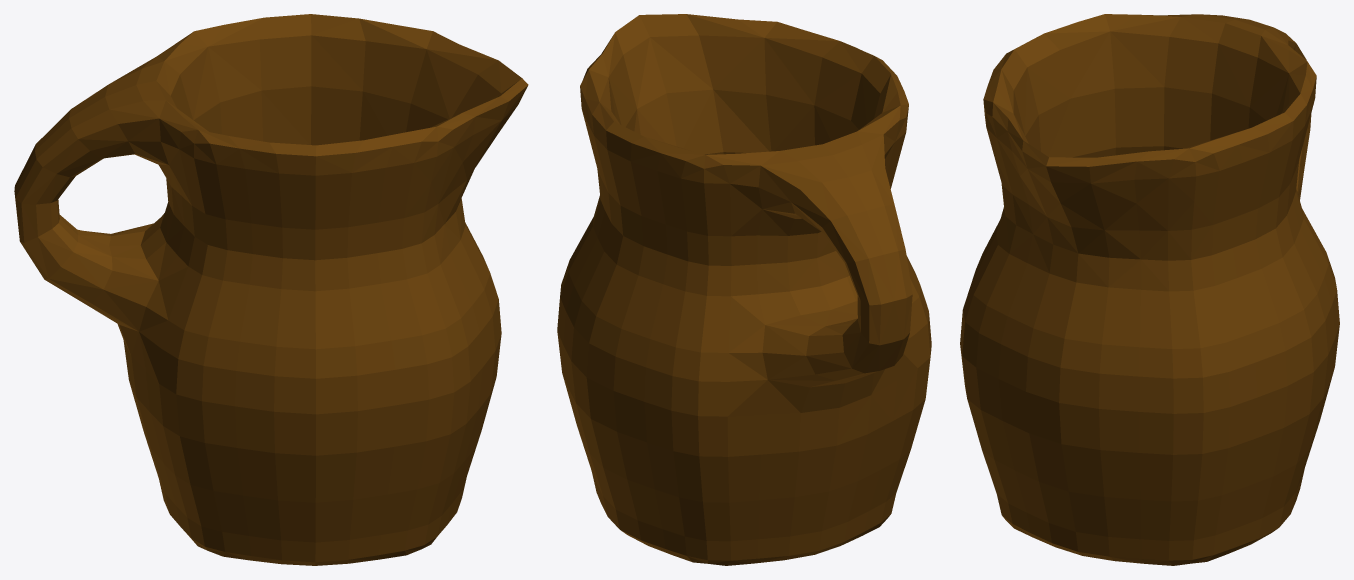
The model's file is old_jar.obj.
3 renders of one model, left to right at view 1: azimuth 30°, elevation 25°; view 2: azimuth 150°, elevation 25°; view 3: azimuth 270°, elevation 25°, orthographic. The views are drawn at different scales.
Parts seen in each view (by area): view 1: jar_Plane; view 2: jar_Plane; view 3: jar_Plane.
Boxes of the visible parts, bbox=[...] form: jar_Plane: bbox=[14, 14, 528, 565]; jar_Plane: bbox=[557, 14, 931, 565]; jar_Plane: bbox=[960, 14, 1339, 565].
Size of the model in its own units: 1.03 by 1.06 by 0.8551.
